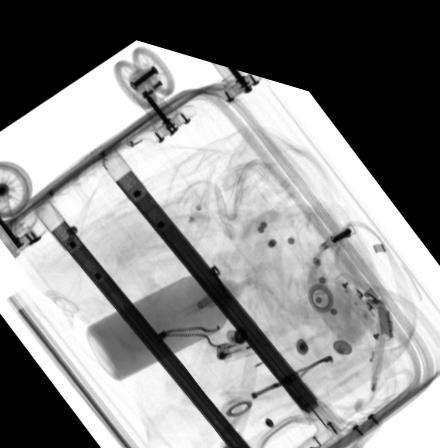Lighter: (215, 316, 272, 351)
